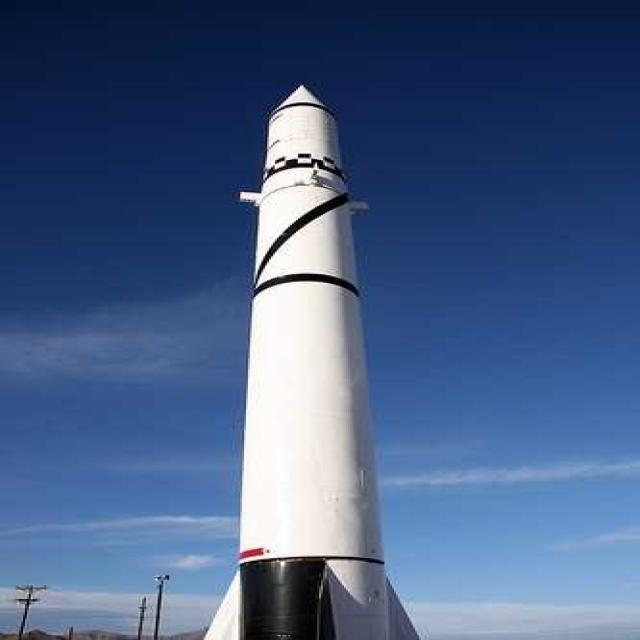missile: (209, 86, 430, 640)
